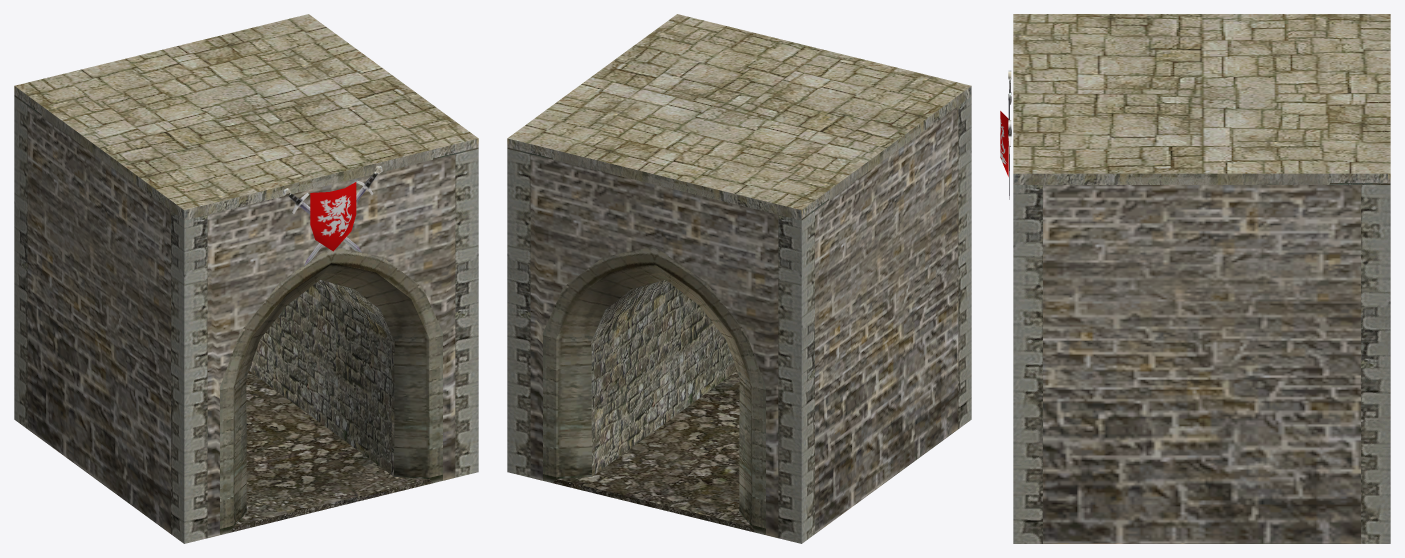
File: building_gatehouse_small.glb
3 views of the same model, side by side, from view 1: azimuth 30°, elevation 25°; view 2: azimuth 150°, elevation 25°; view 3: azimuth 270°, elevation 25° (orthographic). The views are drawn at different scales.
Parts seen in each view (by area): view 1: building_gatehouse_small; view 2: building_gatehouse_small; view 3: building_gatehouse_small.
Part boxes in pixels (left/top/right/bottom): building_gatehouse_small: left=14, top=14, right=478, bottom=543; building_gatehouse_small: left=507, top=14, right=971, bottom=543; building_gatehouse_small: left=1000, top=14, right=1390, bottom=543.
Size of the model in its own units: 6.15 by 6.66 by 6.36.
Materials: 8 (8 with a texture image).
